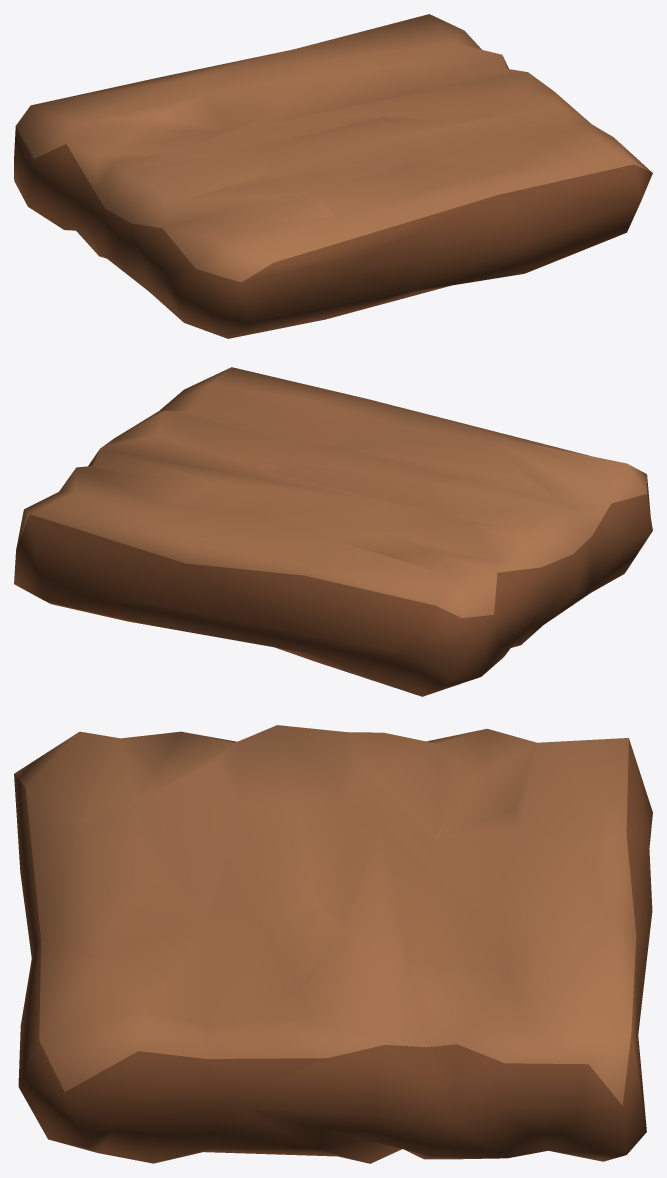
Rendered from canopy_bark_ledge_lod2.glb.
3 renders of one model, top to bottom at view 1: azimuth 30°, elevation 25°; view 2: azimuth 150°, elevation 25°; view 3: azimuth 270°, elevation 25°, orthographic. The views are drawn at different scales.
Visible parts, largest first — view 1: canopy_bark_ledge.001; view 2: canopy_bark_ledge.001; view 3: canopy_bark_ledge.001.
Boxes of the visible parts, x1,y1,x2,y2 form: canopy_bark_ledge.001: (14,14,652,338); canopy_bark_ledge.001: (14,367,652,696); canopy_bark_ledge.001: (14,725,652,1163).
Bounding box in the file's own units: 3.51 × 0.8493 × 2.85.
